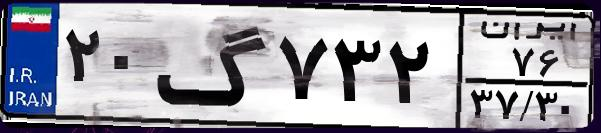0: (110, 28, 156, 98), (560, 70, 590, 125)
2: (385, 28, 445, 110), (57, 26, 110, 100)
3: (330, 28, 385, 110), (470, 70, 495, 125), (535, 70, 560, 125)
6: (537, 27, 568, 80)
7: (270, 28, 330, 110), (508, 27, 537, 80), (495, 70, 520, 125)
گ: (156, 12, 270, 120)
